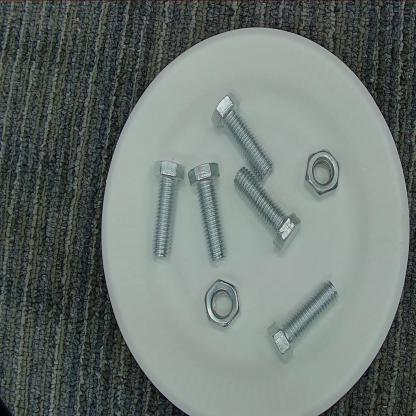FOD: (268, 276, 341, 364), (234, 166, 307, 253), (209, 90, 277, 181), (184, 159, 232, 265), (149, 155, 187, 268), (304, 148, 344, 205), (202, 279, 245, 331)
